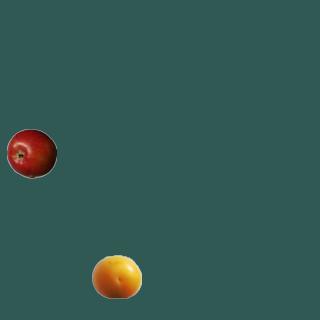Apple Braeburn: (6, 128, 56, 178)
Cherry Wax Yellow: (91, 251, 141, 301)
